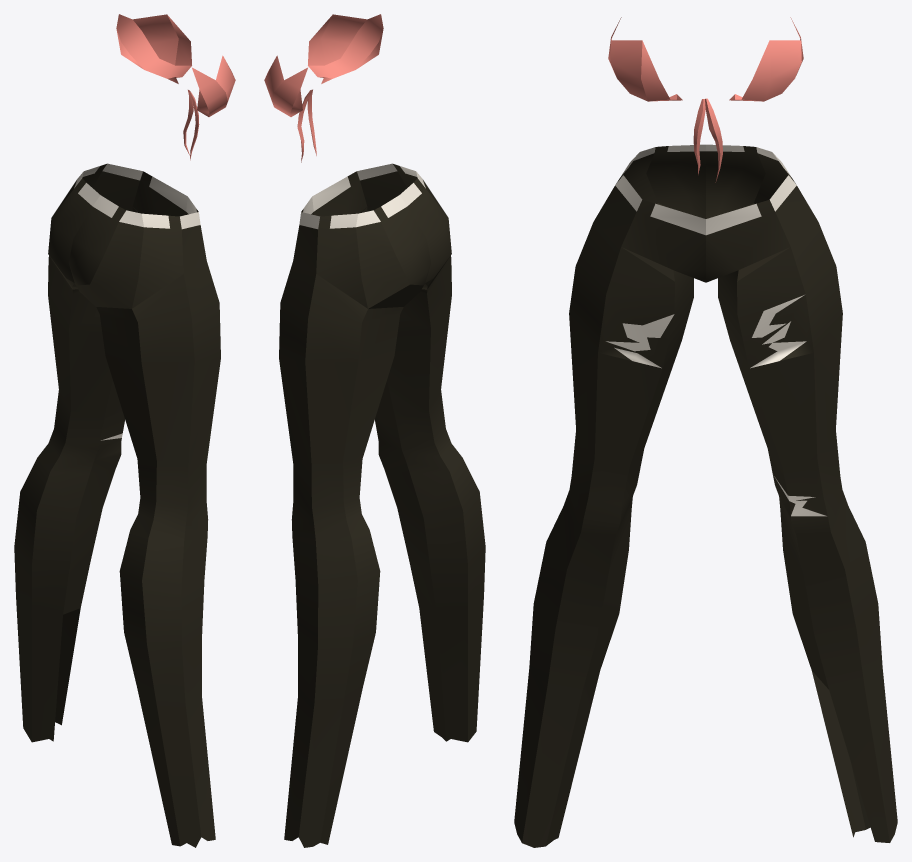
Rendered from Lu_Jean_004.fbx.
3 views of the same model, side by side, from view 1: azimuth 30°, elevation 25°; view 2: azimuth 150°, elevation 25°; view 3: azimuth 270°, elevation 25° (orthographic). The views are drawn at different scales.
Parts seen in each view (by area): view 1: Lu_Jean_004; view 2: Lu_Jean_004; view 3: Lu_Jean_004.
Part boxes in pixels (x1,y1,x2,y2): Lu_Jean_004: [14, 14, 235, 847]; Lu_Jean_004: [264, 14, 485, 847]; Lu_Jean_004: [514, 17, 897, 847].
Size of the model in its own units: 2421 by 11681 by 4802.
